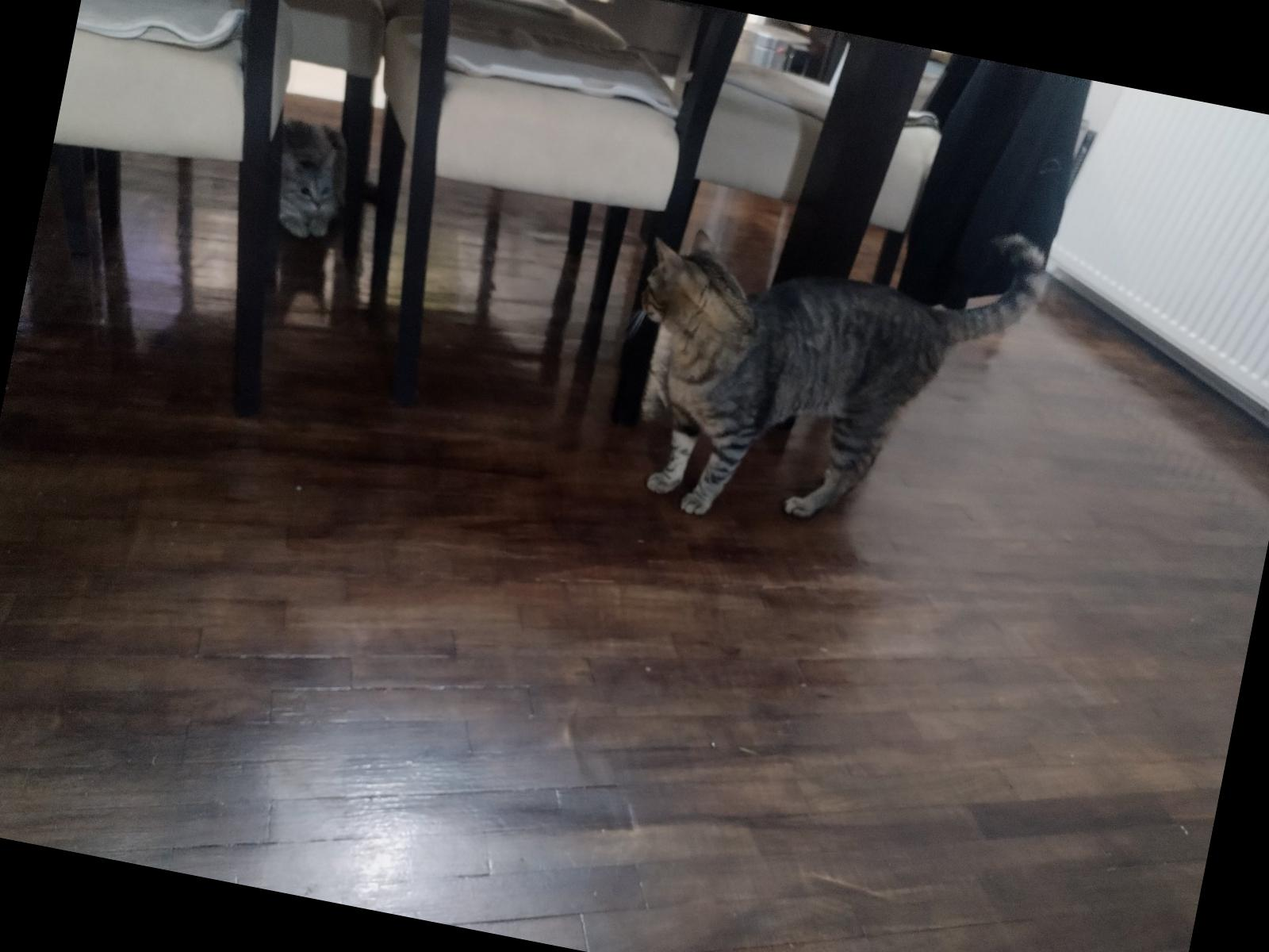macka: (598, 163, 1057, 576), (262, 113, 358, 244)
